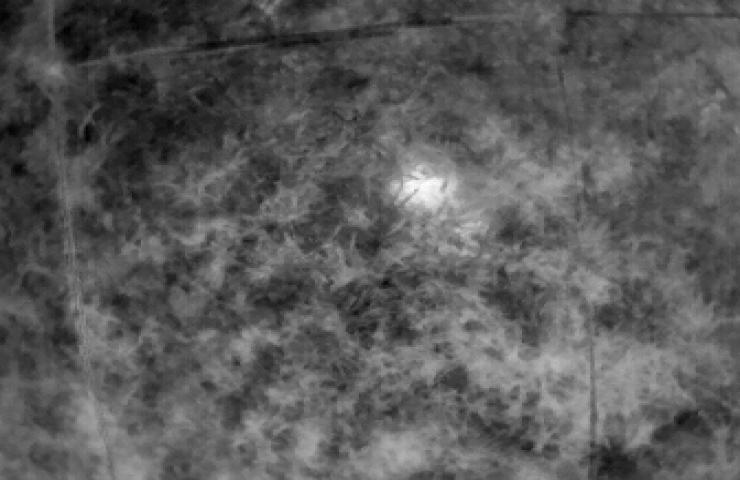landmines: (390, 163, 467, 222)
